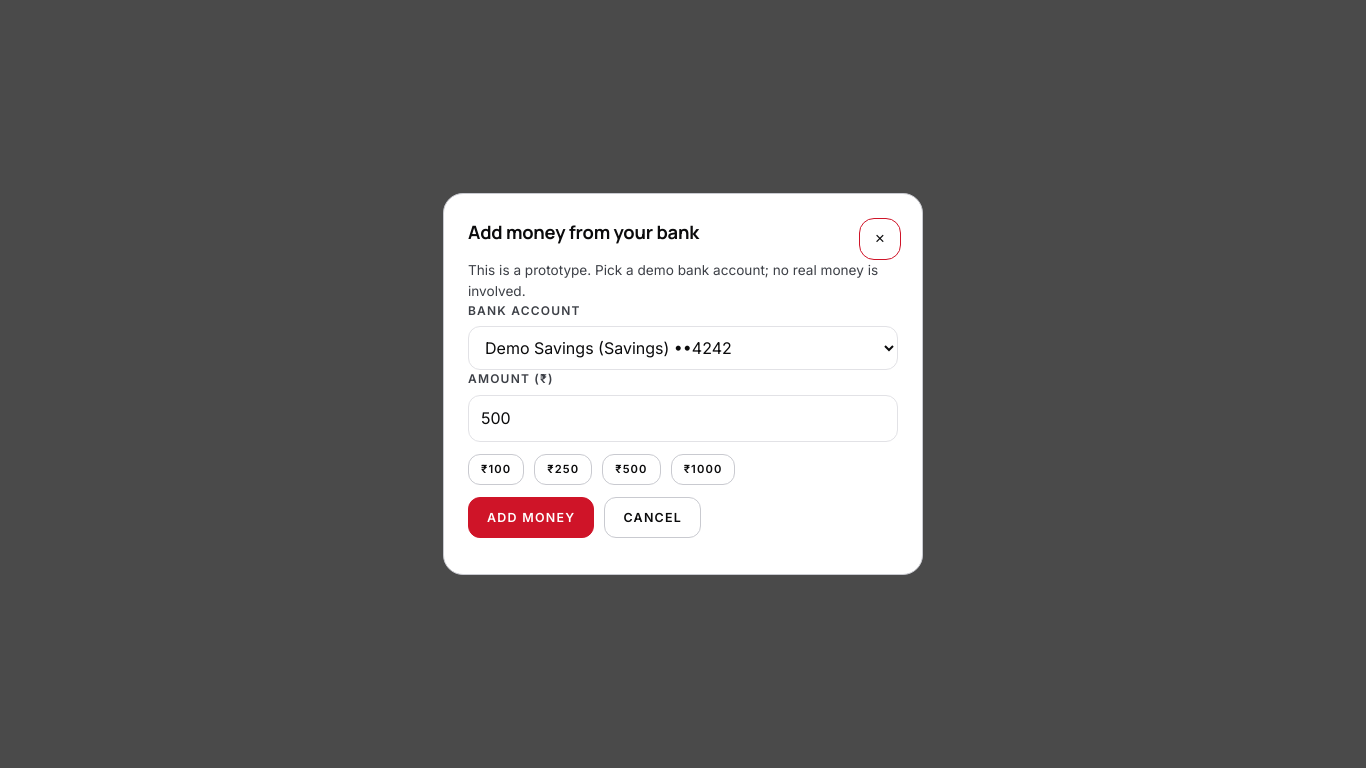
bank top-up dialog › adds money from the chosen account and confirms
Step 1. Click the button with test id "bank-submit" → [531, 518], box top-left (468, 497), bottom-right (594, 538)
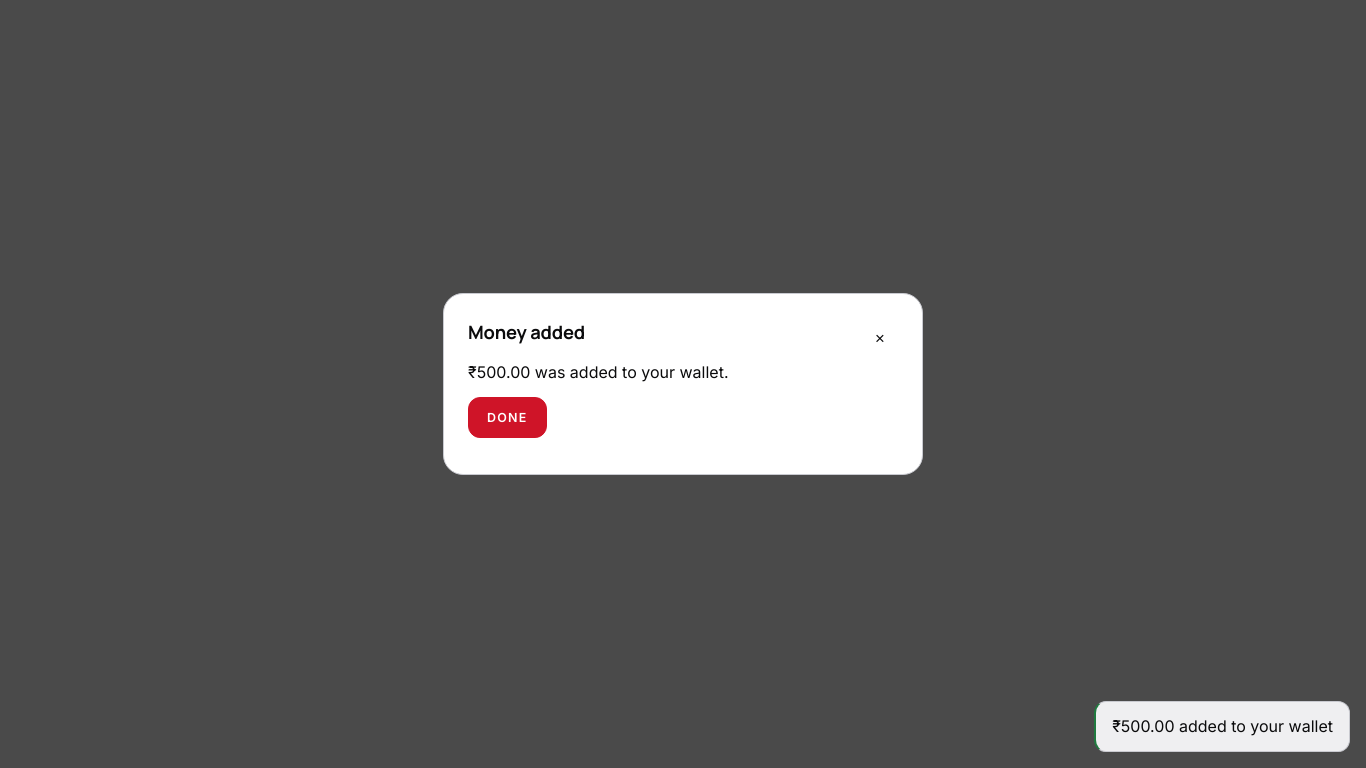
Check: the text with test id "topup-confirmed" shows "₹500.00 was added", box top-left (468, 362), bottom-right (728, 382)
